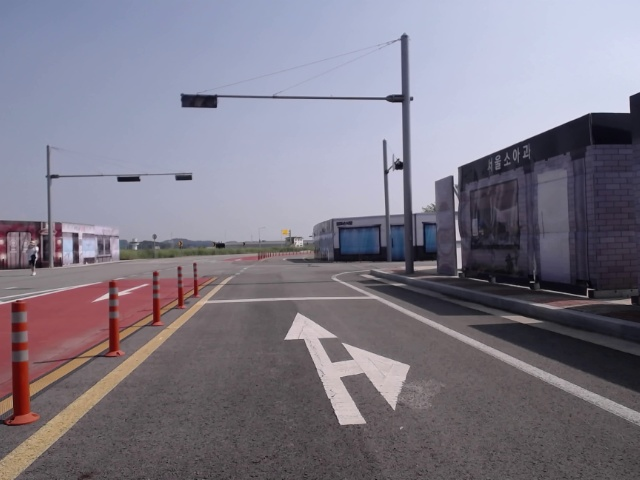orange_3: (181, 92, 218, 109)
